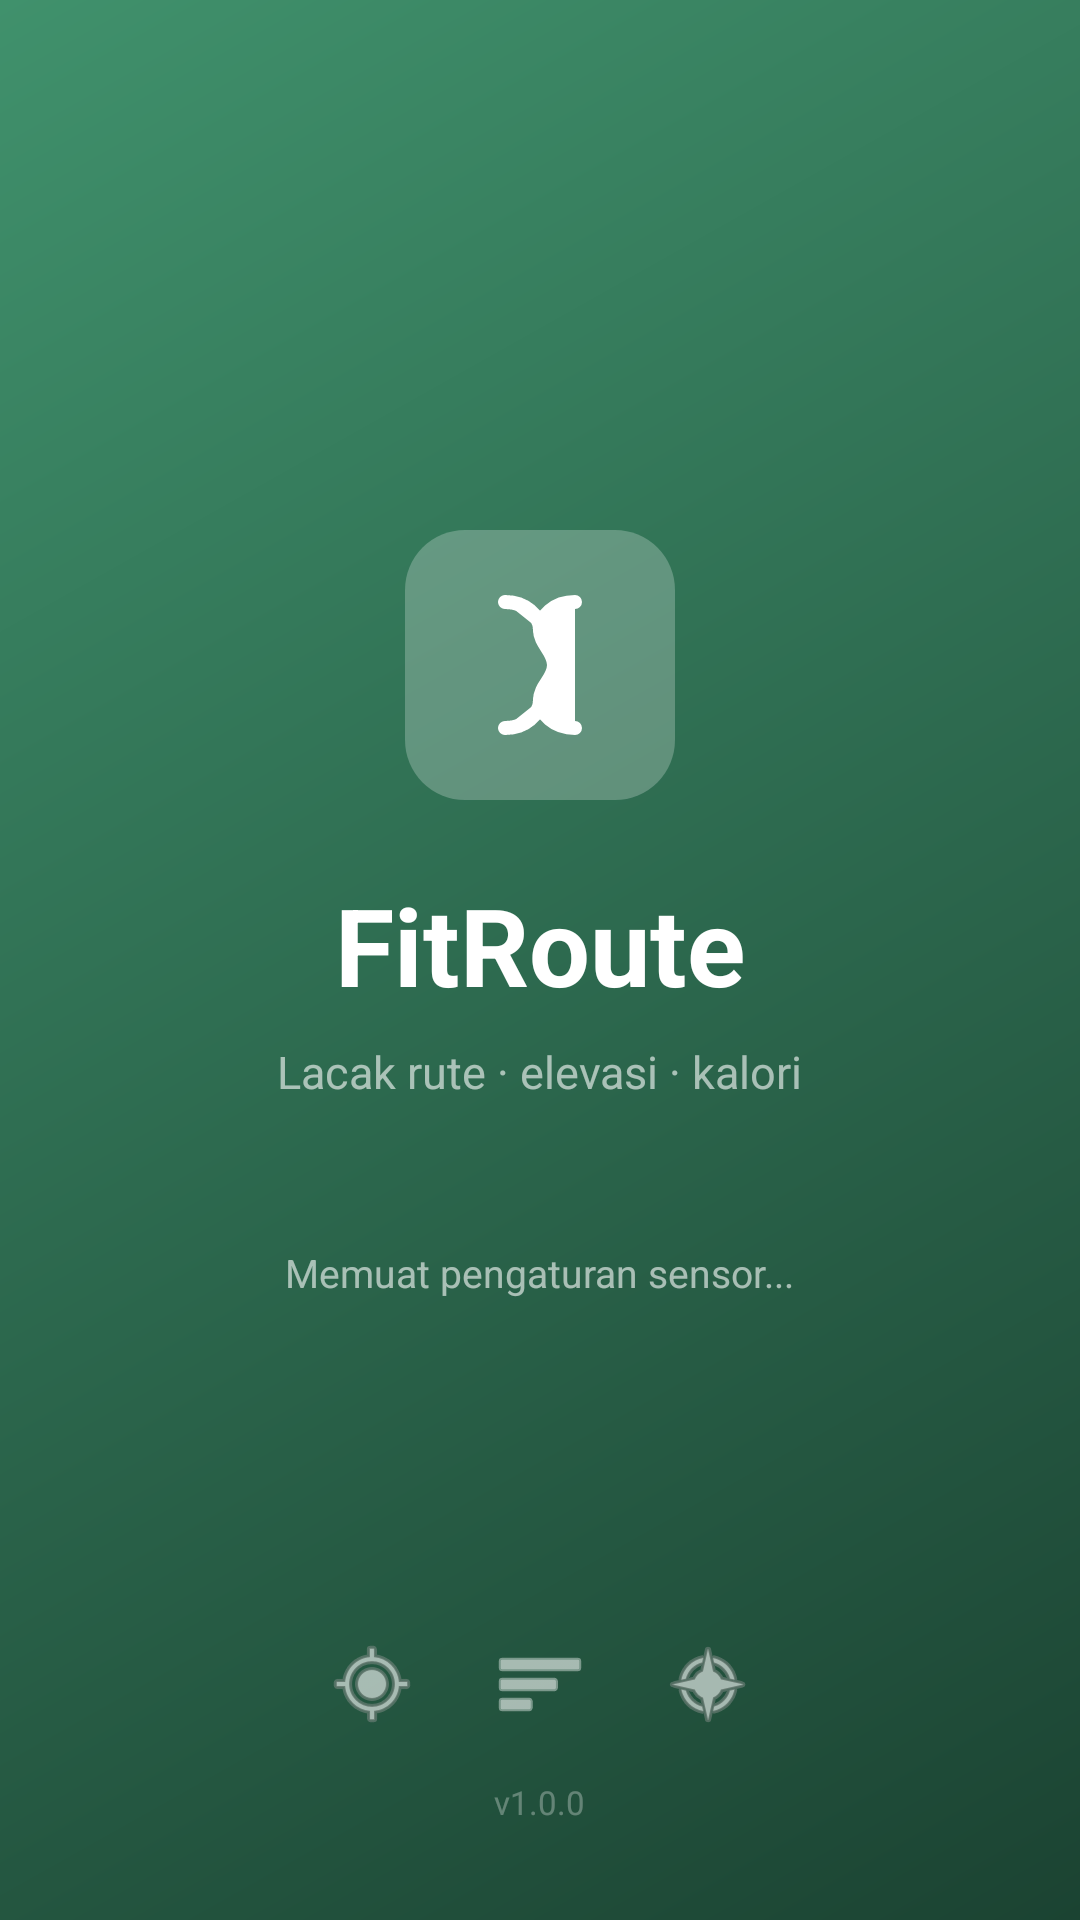

Icon bounding boxes for this 1080w x 1920h phone screenshot, format (x1, y1, x2, y2):
compass: (670, 1647, 745, 1722)
mylocation: (334, 1646, 410, 1722)
sort by size: (499, 1658, 581, 1711)
